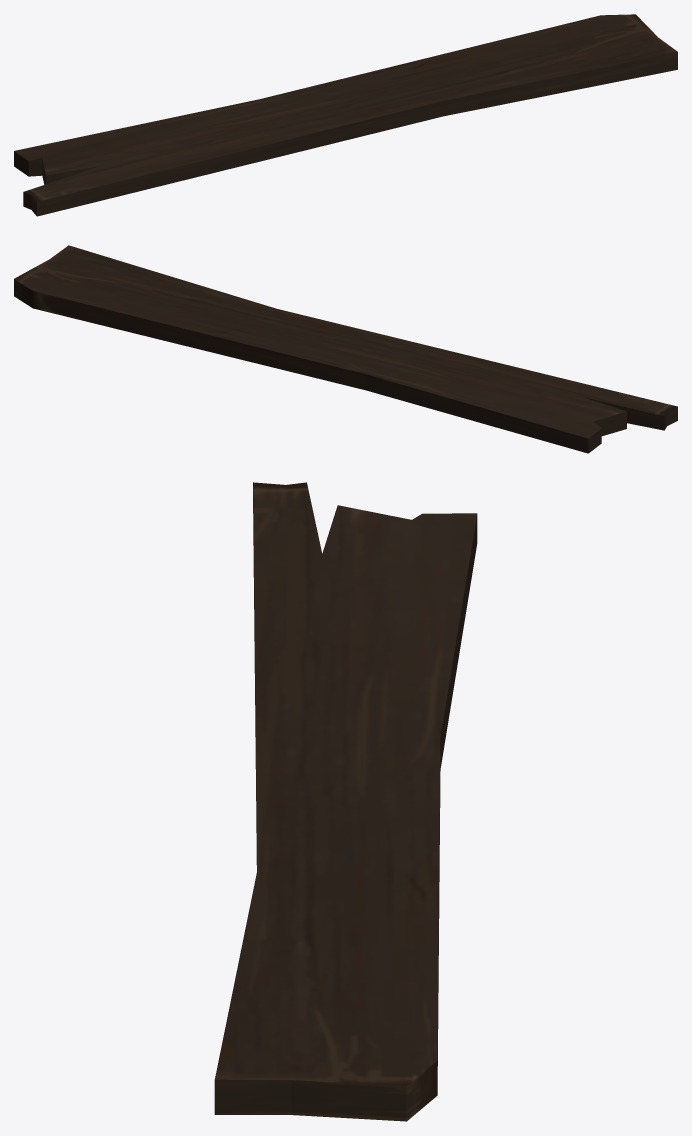
Rendered from sewer_wood001.FBX.
3 renders of one model, top to bottom at view 1: azimuth 30°, elevation 25°; view 2: azimuth 150°, elevation 25°; view 3: azimuth 270°, elevation 25°, orthographic. The views are drawn at different scales.
Visible parts, largest first — view 1: sewer_wood001; view 2: sewer_wood001; view 3: sewer_wood001.
Boxes of the visible parts, x1,y1,x2,y2 form: sewer_wood001: (14,14,677,216); sewer_wood001: (14,245,677,453); sewer_wood001: (214,482,477,1121).
Bounding box in the file's own units: 531 × 14.21 × 96.55.
